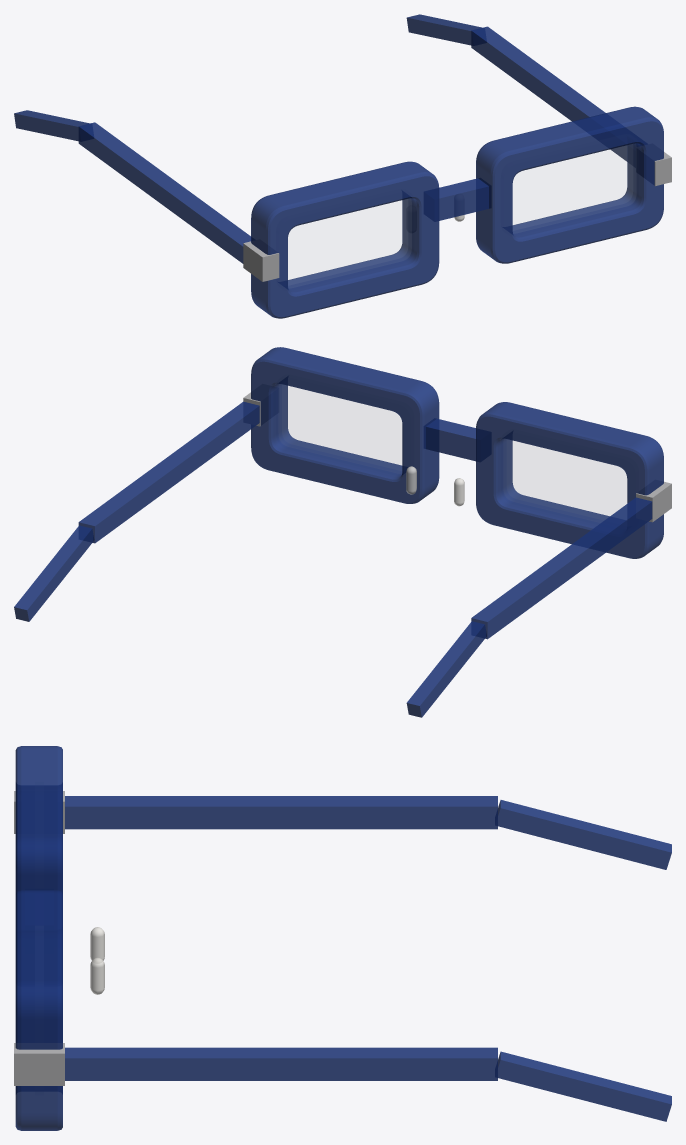
The model's file is frame003.glb.
3 renders of one model, top to bottom at view 1: azimuth 30°, elevation 25°; view 2: azimuth 150°, elevation 25°; view 3: azimuth 270°, elevation 25°, orthographic. The views are drawn at different scales.
Parts seen in each view (by area): view 1: RightRim, LeftRim, LeftTemple, LeftLens, RightLens, RightTemple, Bridge, LeftHinge, RightHinge; view 2: RightRim, LeftRim, LeftTemple, RightTemple, RightLens, LeftLens, Bridge, LeftHinge; view 3: LeftTemple, RightTemple, RightRim, LeftRim, RightHinge.
Boxes of the visible parts, x1=… form: RightRim: x1=476, y1=106, x2=663, y2=263; LeftRim: x1=251, y1=161, x2=439, y2=318; LeftTemple: x1=14, y1=110, x2=250, y2=263; LeftLens: x1=288, y1=199, x2=407, y2=284; RightLens: x1=513, y1=144, x2=632, y2=230; RightTemple: x1=406, y1=14, x2=627, y2=161; Bridge: x1=439, y1=178, x2=488, y2=220; LeftHinge: x1=243, y1=241, x2=279, y2=281; RightHinge: x1=654, y1=152, x2=671, y2=186; RightRim: x1=251, y1=347, x2=439, y2=503; LeftRim: x1=476, y1=402, x2=663, y2=558; LeftTemple: x1=406, y1=497, x2=652, y2=717; RightTemple: x1=14, y1=401, x2=259, y2=621; RightLens: x1=282, y1=385, x2=401, y2=470; LeftLens: x1=507, y1=440, x2=626, y2=519; Bridge: x1=426, y1=418, x2=475, y2=461; LeftHinge: x1=636, y1=481, x2=671, y2=522; LeftTemple: x1=65, y1=796, x2=671, y2=869; RightTemple: x1=65, y1=1047, x2=671, y2=1121; RightRim: x1=15, y1=890, x2=62, y2=1130; LeftRim: x1=15, y1=746, x2=62, y2=893; RightHinge: x1=14, y1=1043, x2=64, y2=1085.
Bounding box in the file's own units: 0.1366 × 0.0356 × 0.1447.
